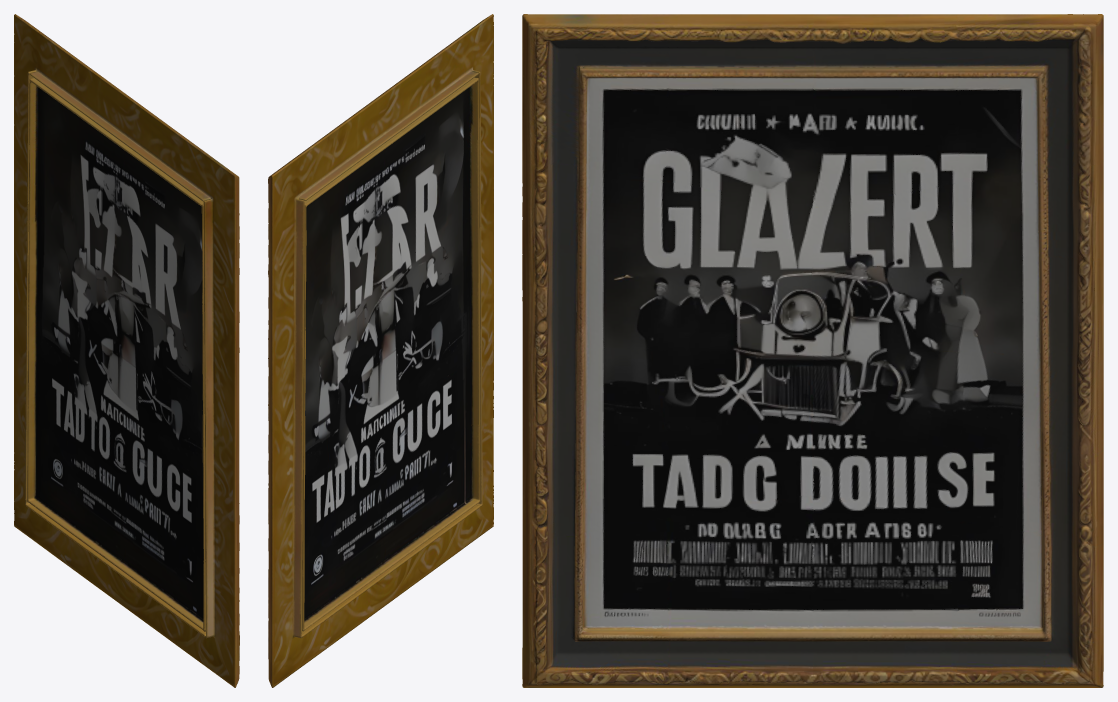
File: movie_poster_classic.glb
The picture shows the model from 3 angles, left to right: view 1: azimuth 30°, elevation 25°; view 2: azimuth 150°, elevation 25°; view 3: azimuth 270°, elevation 25°; orthographic projection. The views are drawn at different scales.
Visible parts, largest first — view 1: tripo_node_e6d70a19-c959-4fe6-a5b4-0e3ef22a7bfa; view 2: tripo_node_e6d70a19-c959-4fe6-a5b4-0e3ef22a7bfa; view 3: tripo_node_e6d70a19-c959-4fe6-a5b4-0e3ef22a7bfa.
Boxes of the visible parts, <box> form: tripo_node_e6d70a19-c959-4fe6-a5b4-0e3ef22a7bfa: <box>14,14,239,687</box>; tripo_node_e6d70a19-c959-4fe6-a5b4-0e3ef22a7bfa: <box>268,14,493,687</box>; tripo_node_e6d70a19-c959-4fe6-a5b4-0e3ef22a7bfa: <box>522,14,1103,687</box>.
Size of the model in its own units: 0.0403 by 1 by 0.7817.
Materials: 1 (1 with a texture image).
